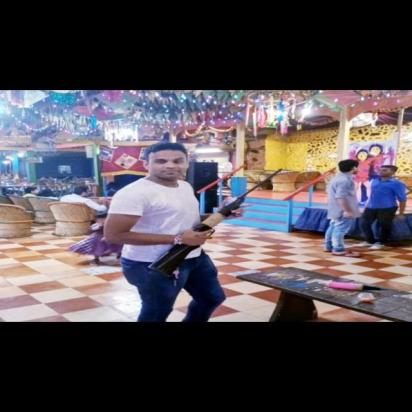Gun: (146, 167, 284, 278)
